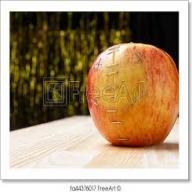apple: (87, 43, 176, 150)
